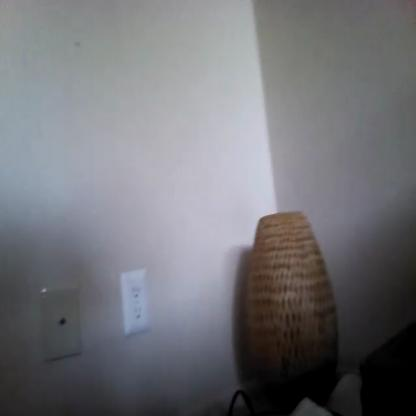OUTLET: (120, 269, 151, 333)
